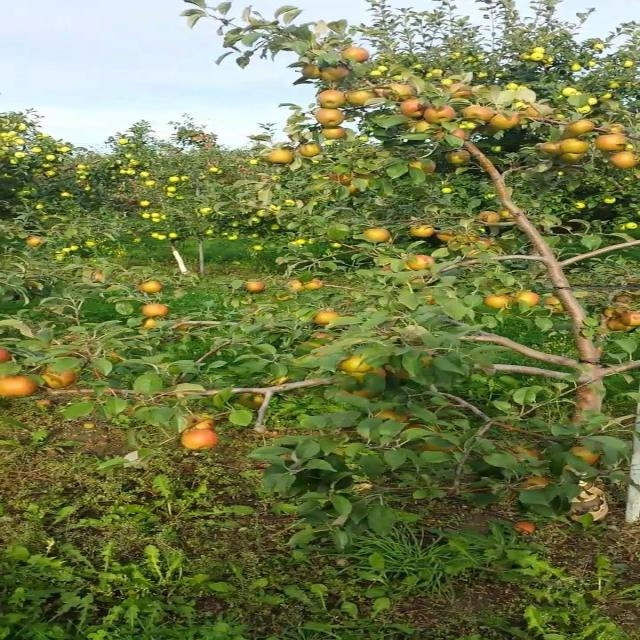apple: (0, 376, 38, 397), (182, 429, 218, 450), (378, 82, 416, 101), (42, 369, 78, 388), (562, 119, 596, 139), (422, 105, 456, 124), (416, 438, 456, 453), (569, 446, 600, 465), (462, 105, 496, 122), (593, 134, 627, 151), (340, 355, 373, 372), (489, 111, 520, 129), (318, 89, 347, 108), (183, 414, 216, 430), (609, 151, 638, 169), (400, 98, 424, 118), (316, 109, 344, 126), (373, 409, 409, 422), (311, 310, 342, 325), (320, 66, 351, 81), (347, 90, 376, 106), (307, 332, 336, 348), (238, 392, 264, 409), (560, 139, 589, 154), (407, 255, 436, 270), (444, 82, 473, 97), (520, 475, 551, 489), (342, 46, 369, 62), (411, 349, 433, 368), (264, 149, 293, 163), (140, 304, 169, 318), (362, 228, 391, 242), (524, 104, 553, 118), (513, 446, 542, 460), (484, 294, 511, 309), (444, 150, 471, 165), (409, 159, 436, 174), (298, 142, 322, 158), (447, 235, 471, 251), (320, 126, 347, 140), (409, 224, 436, 238), (384, 365, 409, 380), (516, 291, 540, 306), (542, 295, 564, 311), (542, 298, 564, 314), (138, 280, 162, 294), (300, 64, 322, 79), (513, 521, 538, 534), (607, 319, 633, 331), (329, 172, 353, 185), (602, 306, 626, 319), (620, 311, 640, 326), (560, 152, 584, 164), (476, 124, 500, 136), (538, 141, 560, 154), (349, 389, 380, 398), (602, 122, 627, 133), (478, 211, 500, 223), (302, 279, 324, 290), (411, 120, 431, 132), (311, 332, 336, 341), (476, 236, 493, 249), (244, 281, 264, 292), (24, 235, 44, 246), (267, 376, 289, 386), (347, 372, 367, 383), (436, 231, 456, 241), (449, 129, 469, 139), (171, 321, 191, 331), (287, 279, 302, 291), (458, 120, 478, 129), (464, 249, 482, 259), (142, 318, 158, 329), (500, 208, 513, 221), (107, 351, 122, 362), (369, 368, 387, 377), (404, 422, 427, 429), (613, 295, 633, 303), (458, 234, 478, 242), (369, 369, 387, 377), (622, 221, 638, 230), (91, 271, 104, 282), (347, 184, 360, 194), (411, 276, 427, 284), (424, 295, 436, 305), (276, 294, 293, 301), (382, 264, 391, 271)
